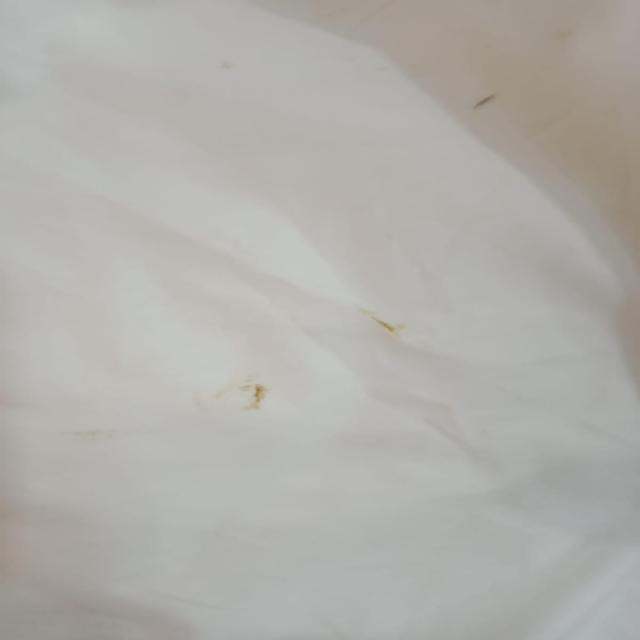stain: (348, 302, 430, 353), (209, 367, 289, 418), (456, 77, 518, 119), (546, 18, 585, 46)
